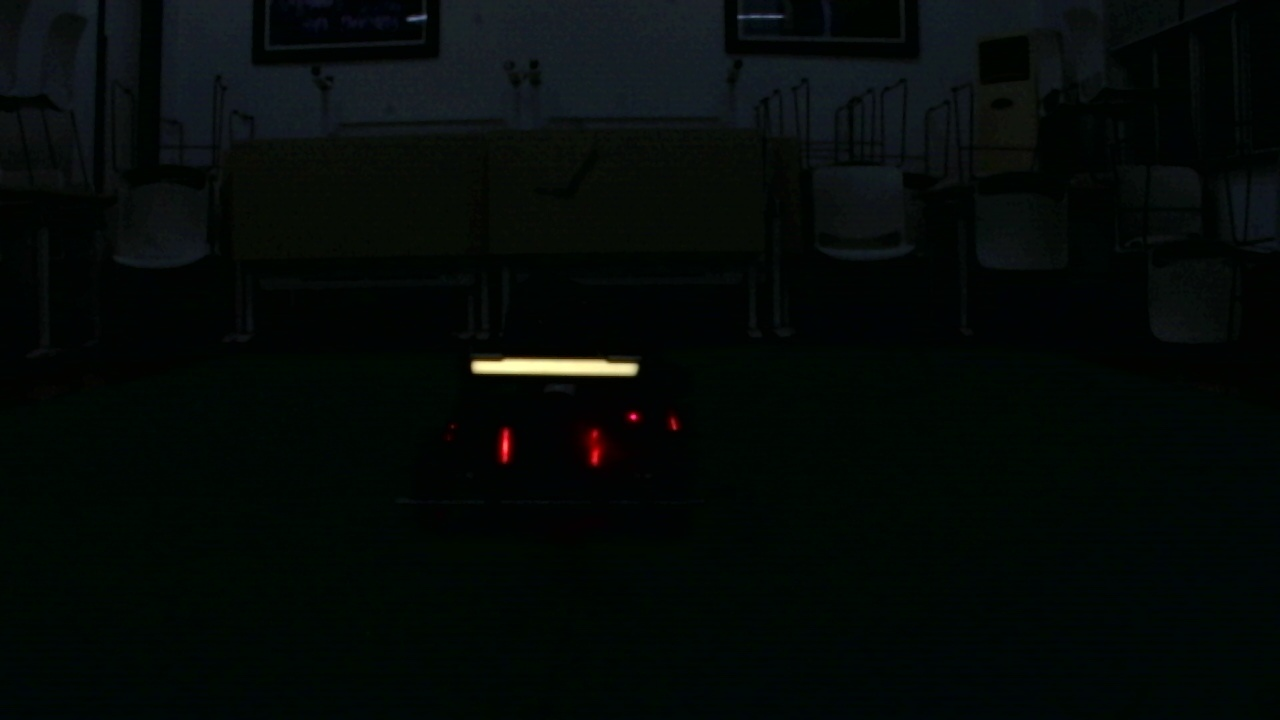lamp: (587, 428, 603, 468), (499, 428, 513, 464)
pair1: (502, 423, 601, 469)
